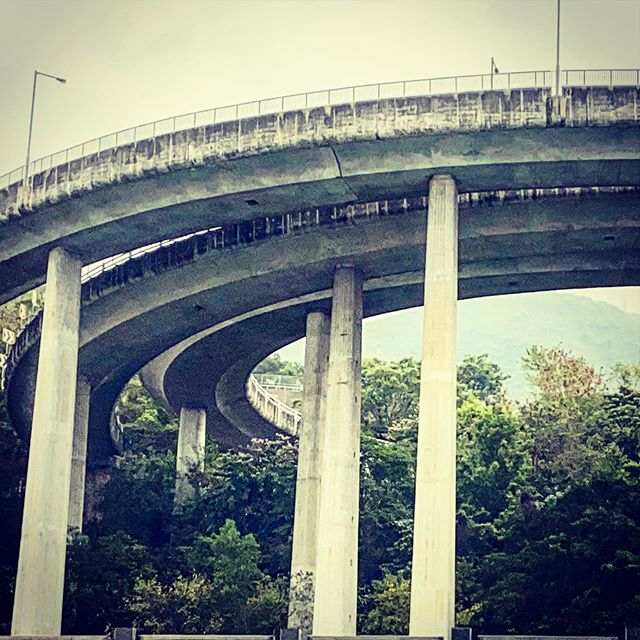bridge: (1, 56, 640, 458)
collumn: (5, 247, 105, 640), (403, 157, 473, 627), (305, 268, 373, 640)
vegetation: (216, 385, 640, 640)
